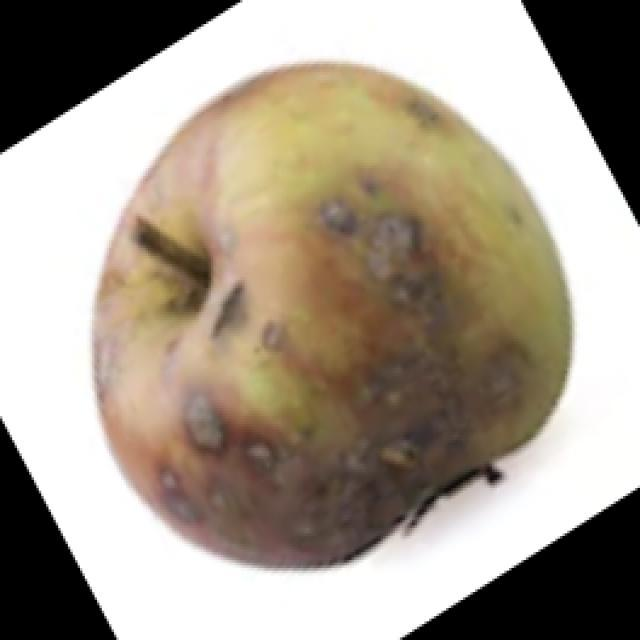Rotten: (102, 43, 573, 557)
